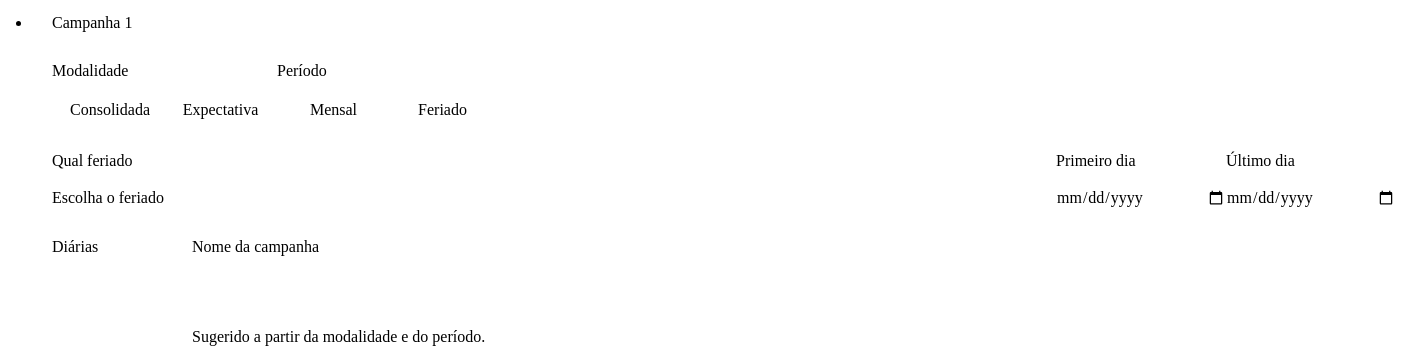
Scenario: CampanhaCampos › preencher o feriado sugere nome e diárias
Select "Carnaval" in the dropdown labelled "Qual feriado" at (554, 198), box left=52, top=176, right=1056, bottom=220
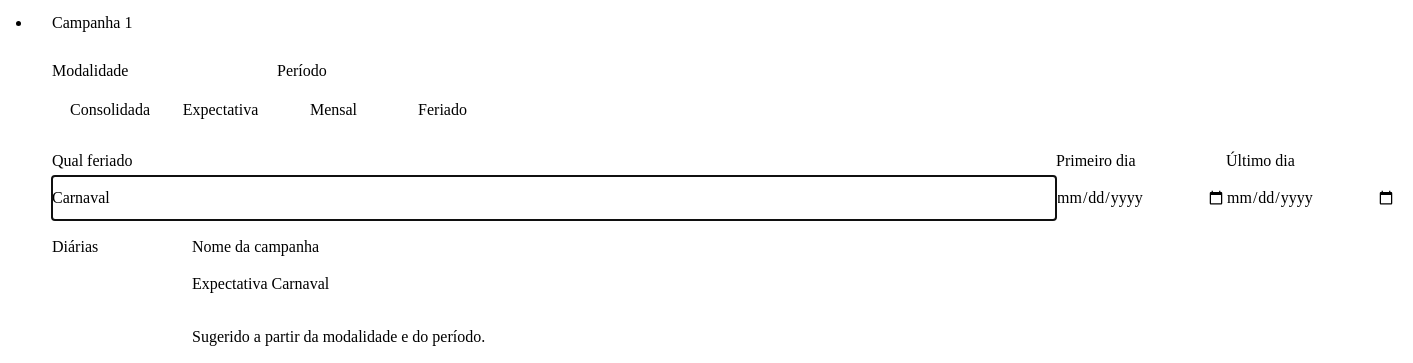
Type "2027-02-05" into the date field labelled "Primeiro dia" at (1141, 198), box left=1056, top=176, right=1226, bottom=220
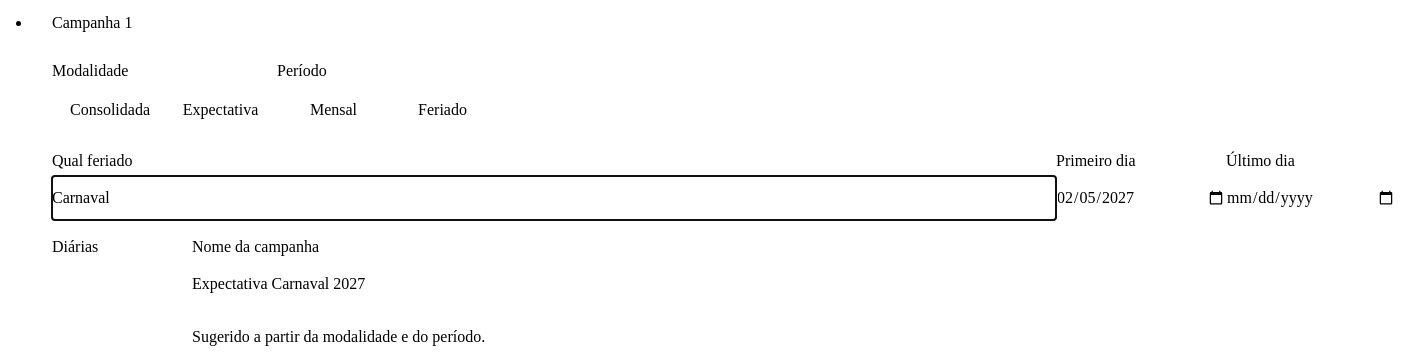
Type "2027-02-09" into the date field labelled "Último dia" at (1311, 198), box left=1226, top=176, right=1396, bottom=220
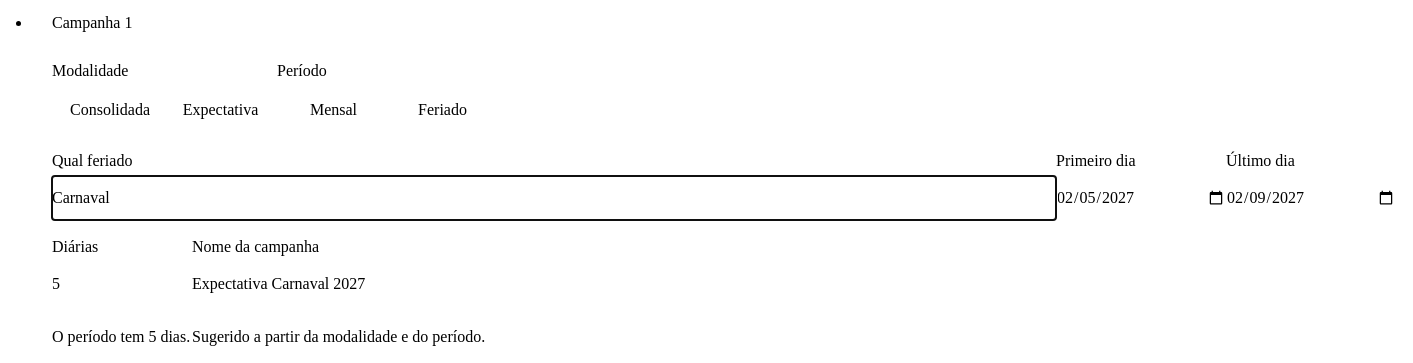
Expected: the number field labelled "Diárias" holds "5", left=52, top=262, right=192, bottom=306
Result: the field labelled "Nome da campanha" holds "Expectativa Carnaval 2027" at left=192, top=262, right=1396, bottom=306
Result: the text "O período tem 5 dias." is shown at left=52, top=328, right=192, bottom=346
